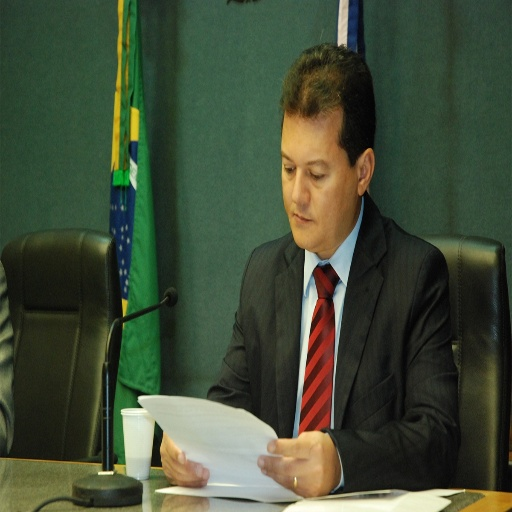hand: (248, 424, 337, 496), (158, 429, 211, 488)
